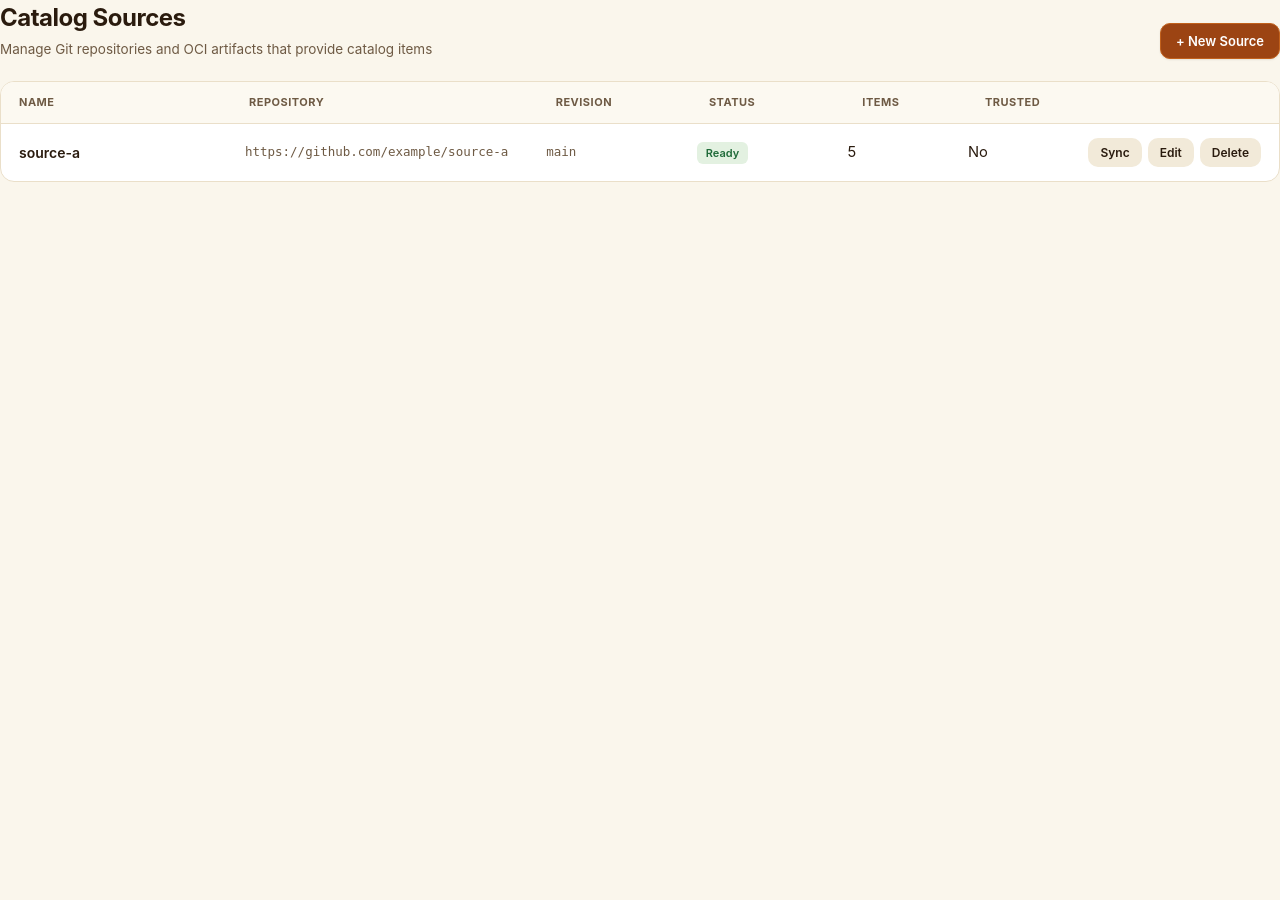
Test: CatalogSources › Delete dialog › opens the delete confirmation dialog
Click the button "Delete": (1230, 152) [1200,138,1261,167]
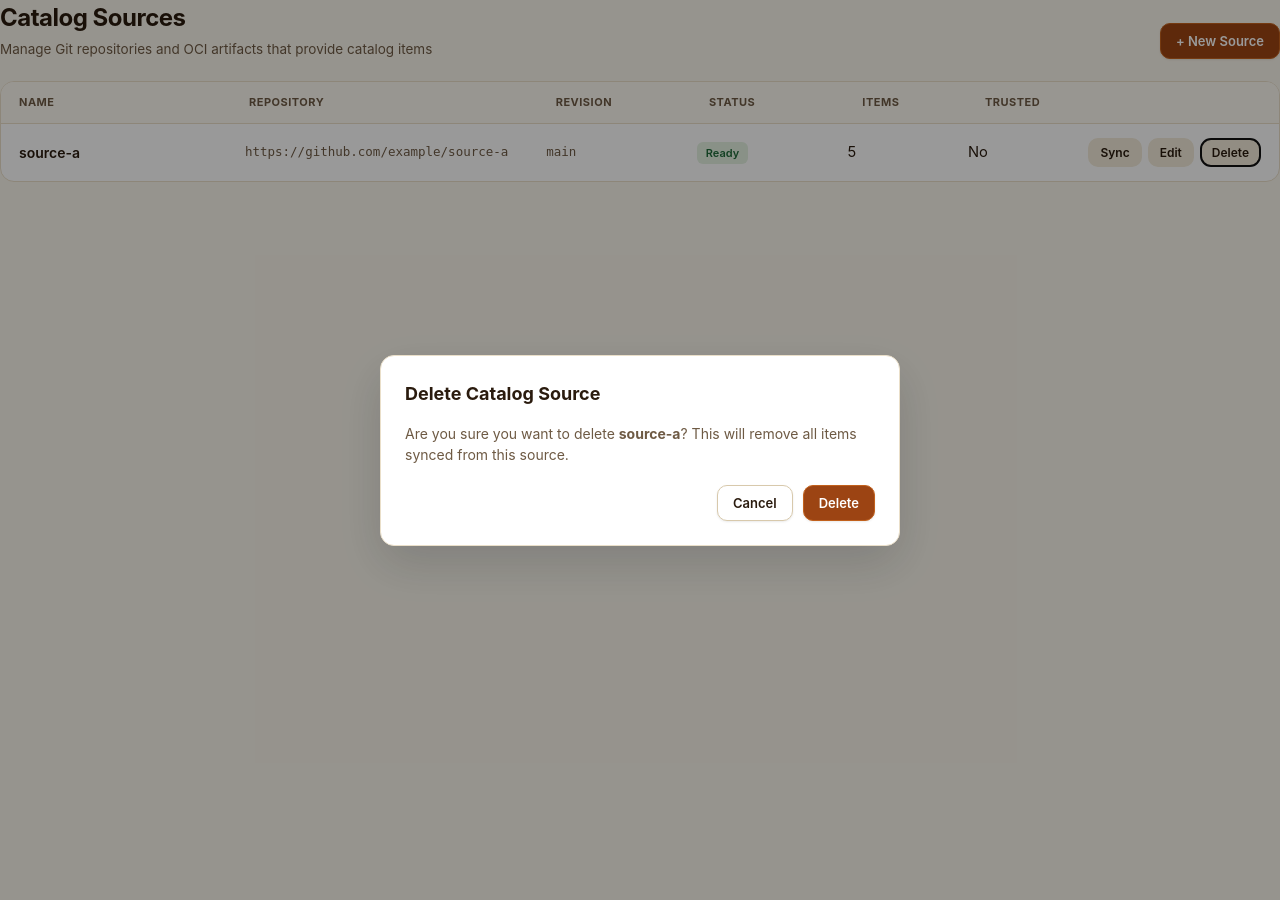
expect the text "Delete Catalog Source" is shown: met, box [405,382,600,404]
expect the text "source-a" is shown: met, box [619,424,680,442]
